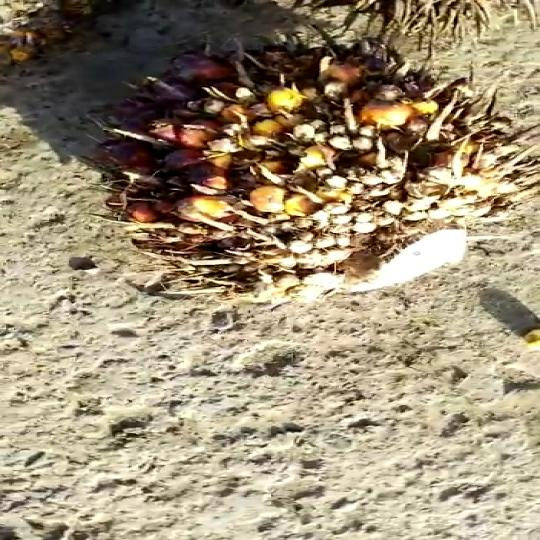masak: (100, 39, 538, 302)
